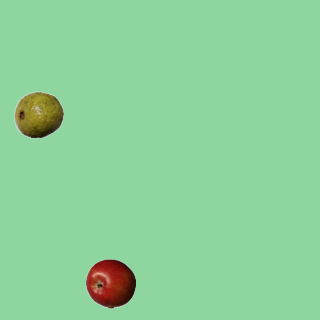Apple Braeburn: (85, 258, 135, 308)
Guava: (13, 89, 63, 139)
